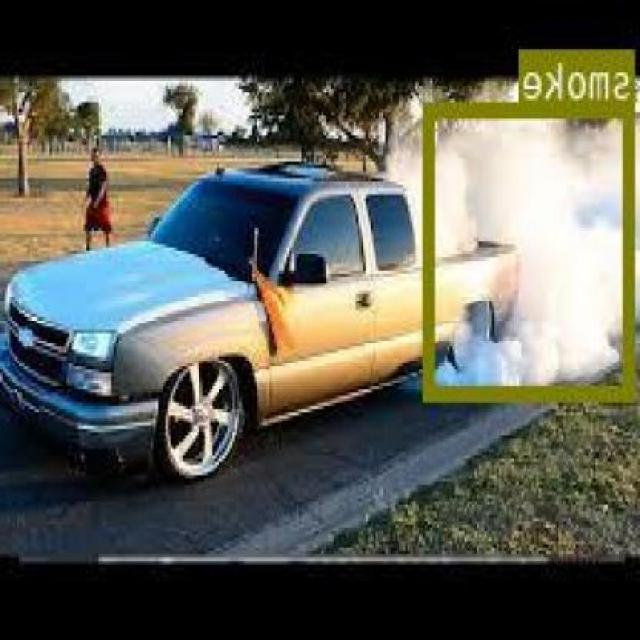Smoke: (426, 99, 637, 398)
